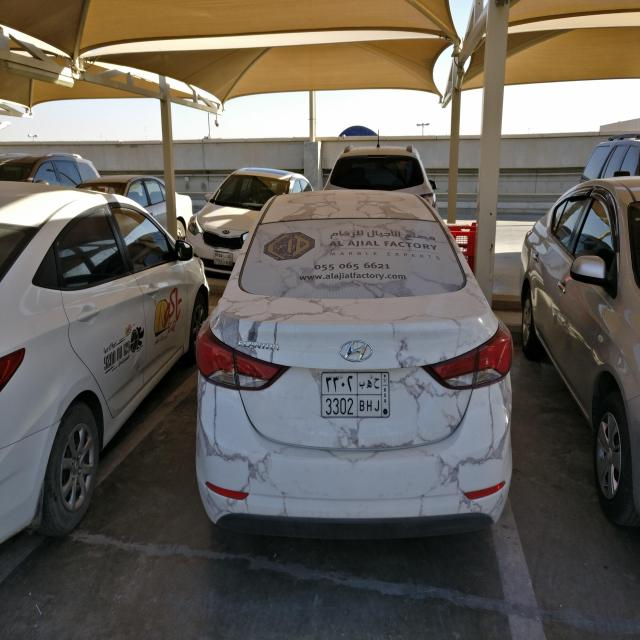license_plate: (320, 368, 391, 419), (213, 250, 233, 266)
